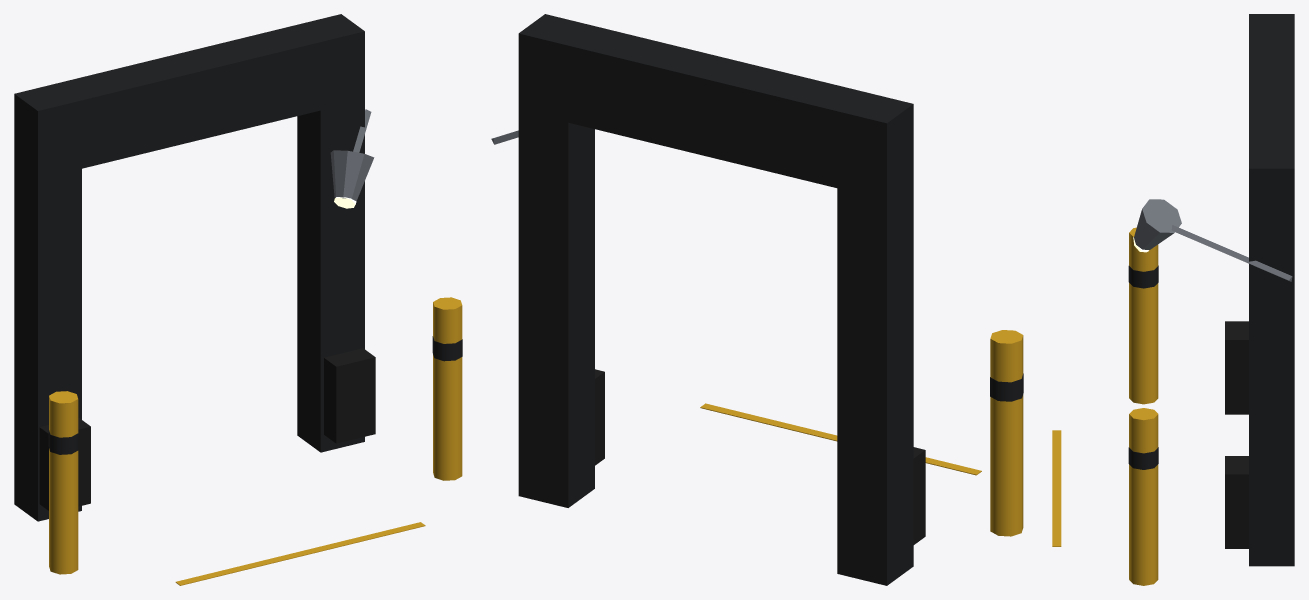
Rendered from loading_dock.glb.
3 renders of one model, left to right at view 1: azimuth 30°, elevation 25°; view 2: azimuth 150°, elevation 25°; view 3: azimuth 270°, elevation 25°, orthographic. The views are drawn at different scales.
Parts seen in each view (by area): view 1: loading_dock; view 2: loading_dock; view 3: loading_dock.
Part boxes in pixels (x1,y1,x2,y2): loading_dock: (14, 14, 462, 585); loading_dock: (491, 14, 1023, 585); loading_dock: (1052, 14, 1294, 585).
Size of the model in its own units: 2.51 by 2.4 by 1.32.
Materials: 1 (1 with a texture image).
